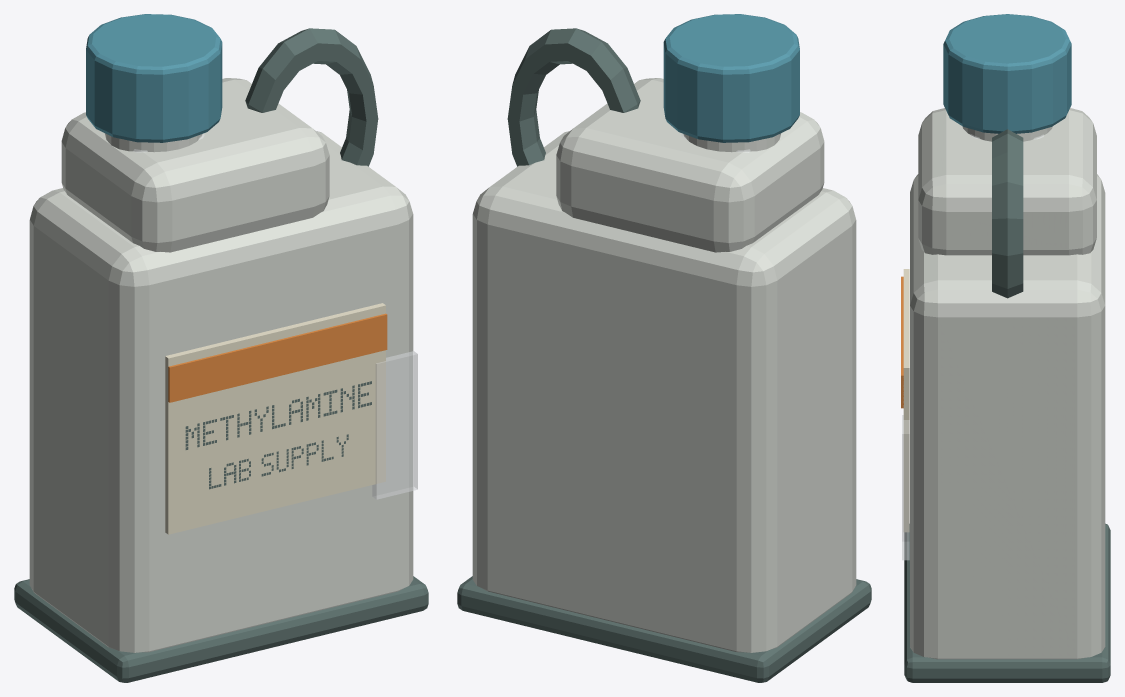
The model's file is methylamine.glb.
3 views of the same model, side by side, from view 1: azimuth 30°, elevation 25°; view 2: azimuth 150°, elevation 25°; view 3: azimuth 270°, elevation 25° (orthographic). The views are drawn at different scales.
Visible parts, largest first — view 1: MethylamineJug, MethylamineLabel, MethylamineShoulder, MethylamineCap, MethylamineBase, MethylamineHandle, MethylamineLiquidWindow, MethylamineNeck; view 2: MethylamineJug, MethylamineShoulder, MethylamineCap, MethylamineBase, MethylamineHandle, MethylamineNeck; view 3: MethylamineJug, MethylamineShoulder, MethylamineCap, MethylamineBase, MethylamineHandle, MethylamineLabel, MethylamineLiquidWindow, MethylamineNeck.
Boxes of the visible parts, bbox=[...] form: MethylamineJug: bbox=[29, 131, 413, 652]; MethylamineLabel: bbox=[165, 303, 387, 534]; MethylamineShoulder: bbox=[61, 78, 329, 252]; MethylamineCap: bbox=[86, 14, 222, 142]; MethylamineBase: bbox=[14, 576, 428, 682]; MethylamineHandle: bbox=[245, 28, 378, 166]; MethylamineLiquidWindow: bbox=[372, 351, 417, 499]; MethylamineNeck: bbox=[105, 133, 202, 152]; MethylamineJug: bbox=[472, 131, 856, 652]; MethylamineShoulder: bbox=[556, 78, 824, 252]; MethylamineCap: bbox=[663, 14, 799, 142]; MethylamineBase: bbox=[457, 576, 871, 682]; MethylamineHandle: bbox=[507, 28, 640, 166]; MethylamineNeck: bbox=[683, 133, 780, 152]; MethylamineJug: bbox=[910, 174, 1105, 659]; MethylamineShoulder: bbox=[918, 108, 1096, 255]; MethylamineCap: bbox=[943, 14, 1071, 133]; MethylamineBase: bbox=[904, 523, 1110, 682]; MethylamineHandle: bbox=[992, 129, 1023, 298]; MethylamineLabel: bbox=[901, 269, 909, 532]; MethylamineLiquidWindow: bbox=[902, 415, 909, 560]; MethylamineNeck: bbox=[962, 126, 1052, 141].
Bounding box in the file's own units: 0.12 × 0.216 × 0.0755.
